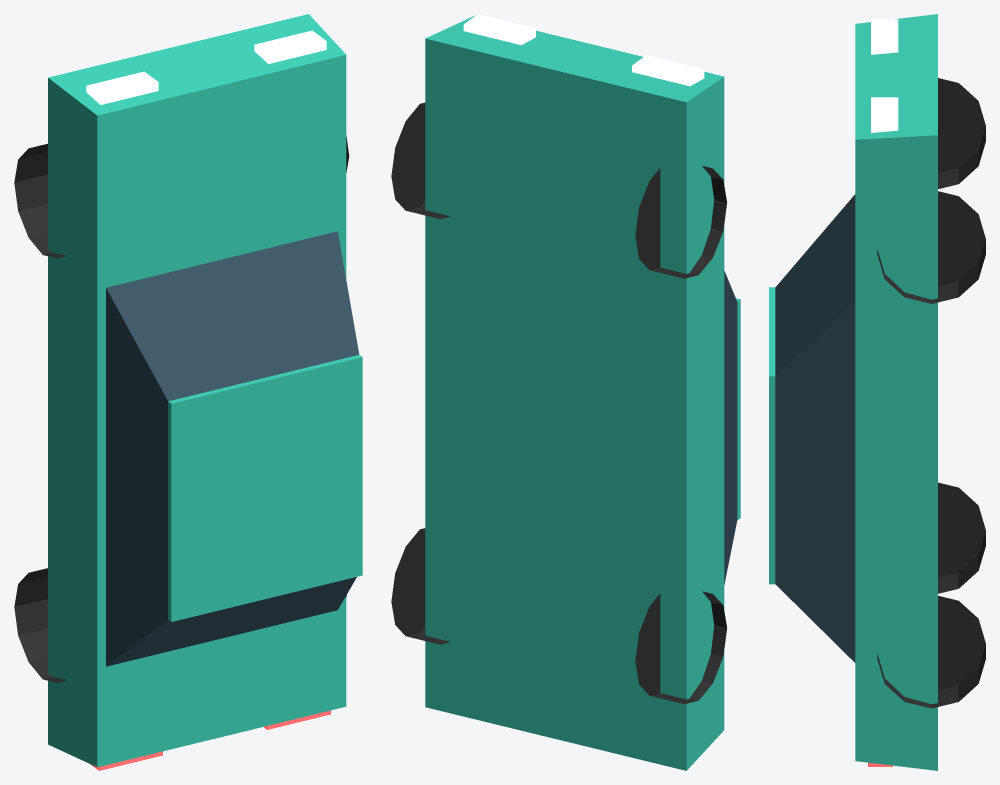
Rendered from car.glb.
The picture shows the model from 3 angles, left to right: view 1: azimuth 30°, elevation 25°; view 2: azimuth 150°, elevation 25°; view 3: azimuth 270°, elevation 25°; orthographic projection. The views are drawn at different scales.
Bounding box in the file's own units: 1.92 × 4.44 × 1.36.
